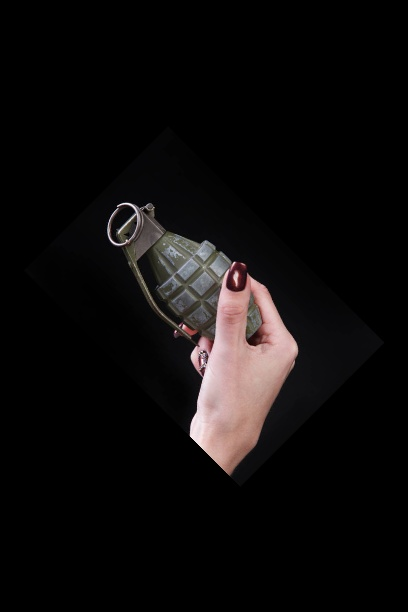e1: (103, 197, 265, 347)
